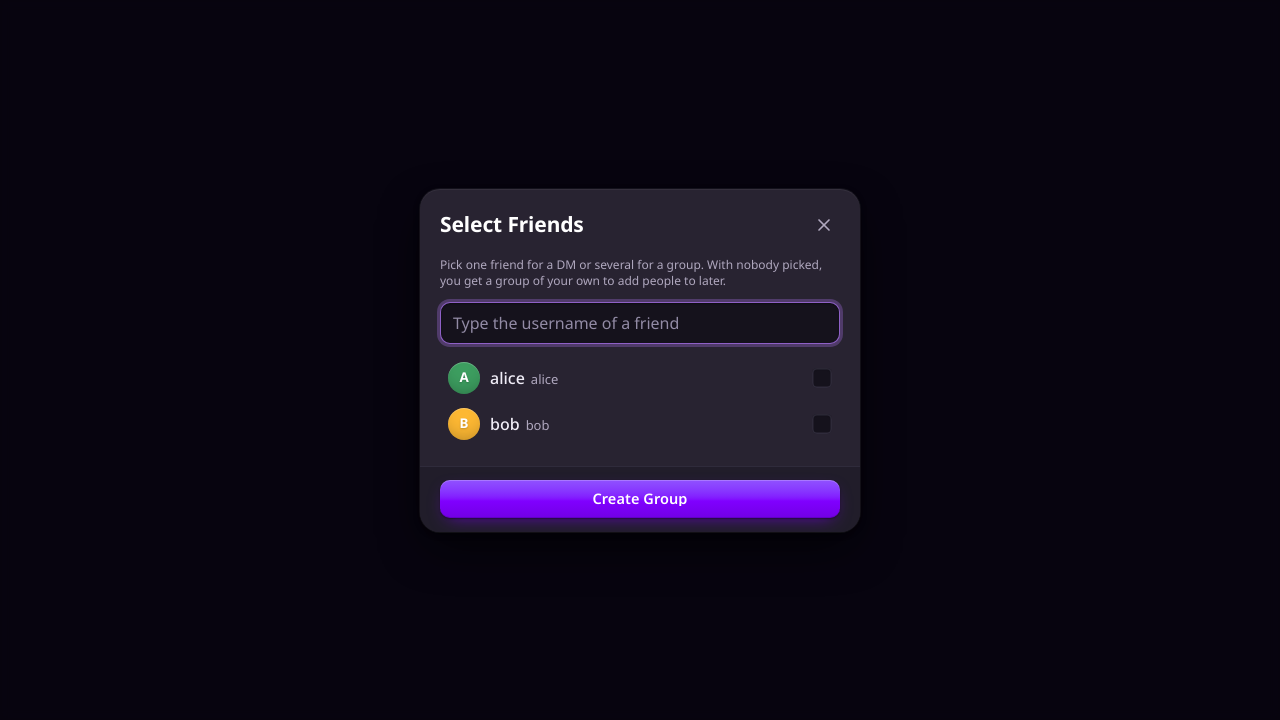
Test: CreateDMModal with nobody picked › names the button for what picking does
The width and height of the screenshot is (1280, 720).
Click the checkbox labelled "A alice alice" at {"x": 822, "y": 378}, box [812,368,832,388]
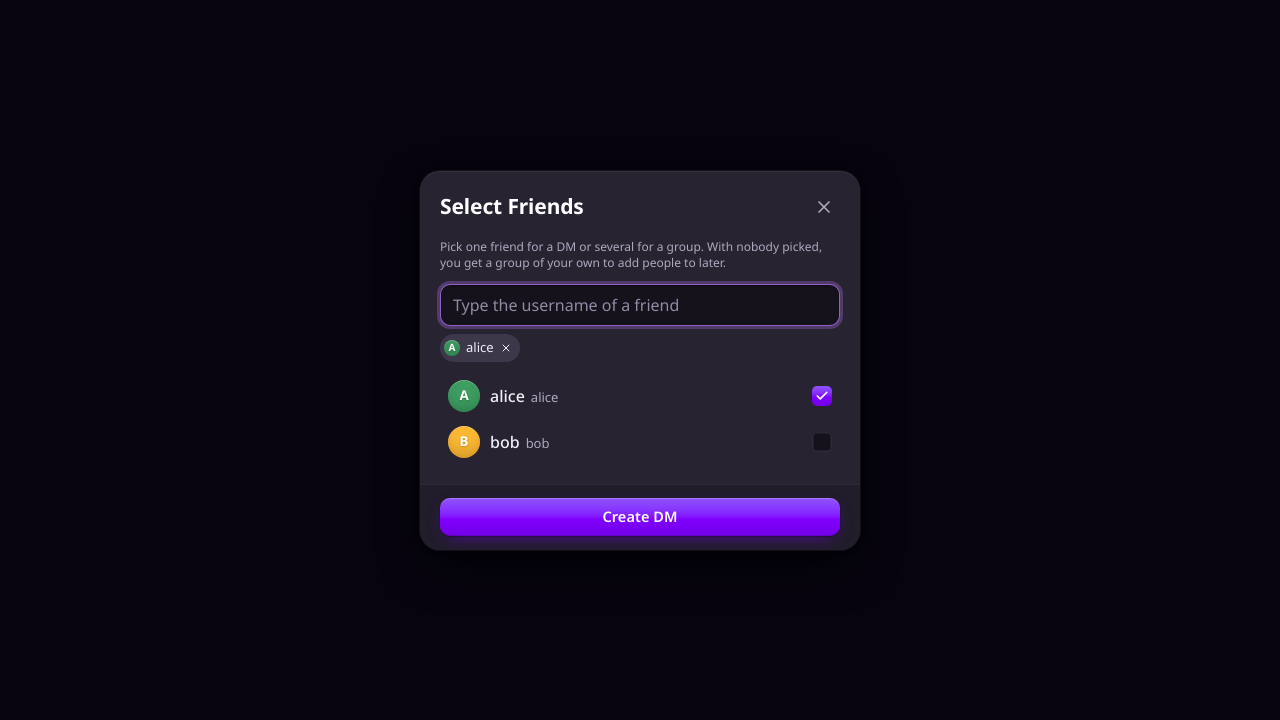
Expected: the text "Create DM" is shown, [602,509,678,524]
Click the checkbox labelled "B bob bob" at {"x": 822, "y": 442}, box [812,432,832,452]
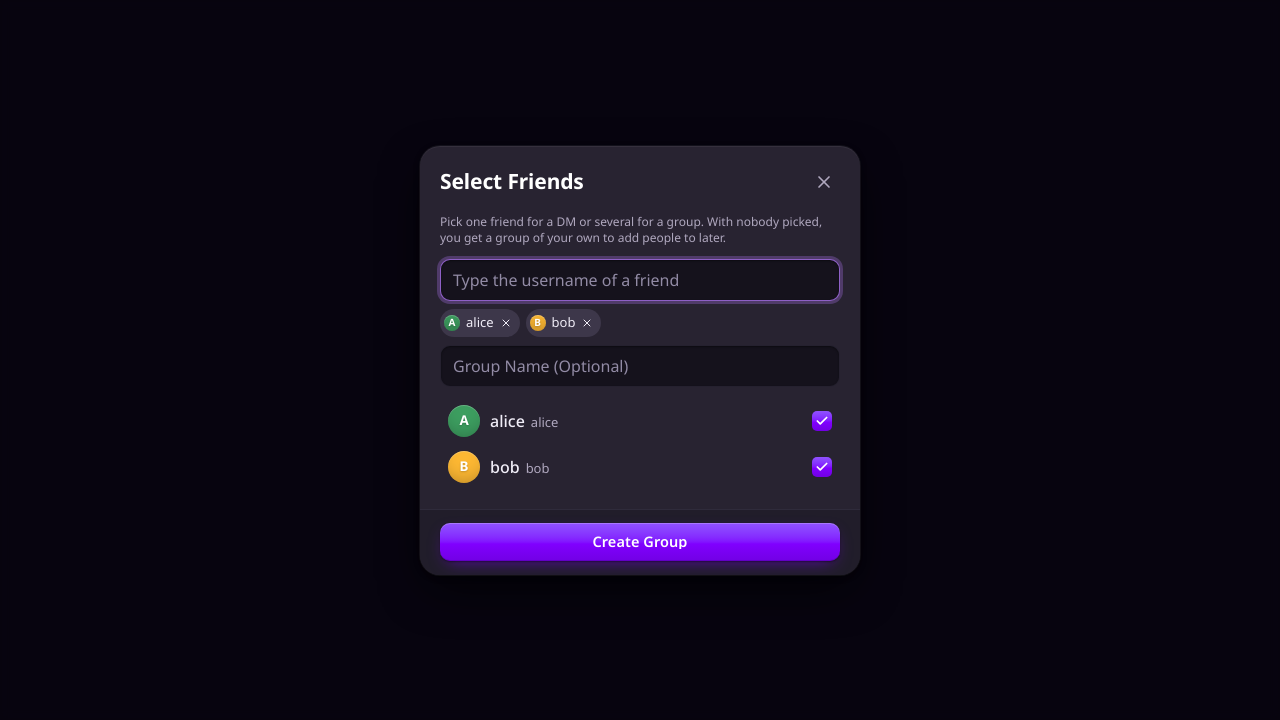
Expected: the text "Create Group" is shown, [592,534,688,549]
